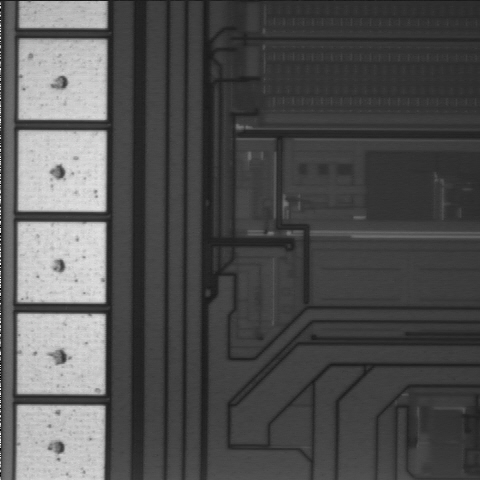pad: (18, 222, 105, 303), (18, 131, 106, 211), (19, 40, 106, 120), (18, 314, 105, 394)
